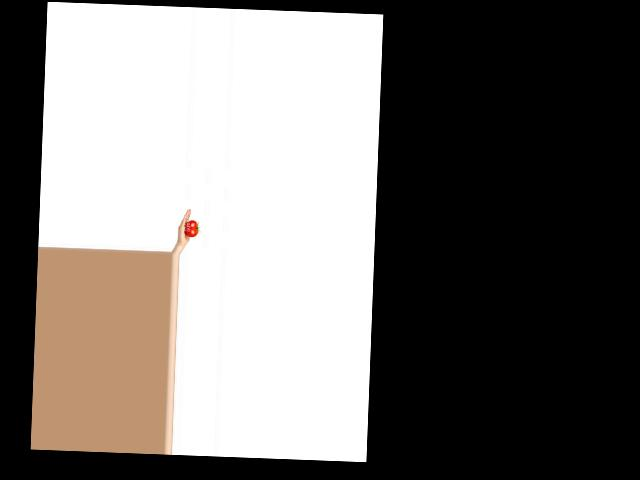tomato: (184, 219, 198, 237)
